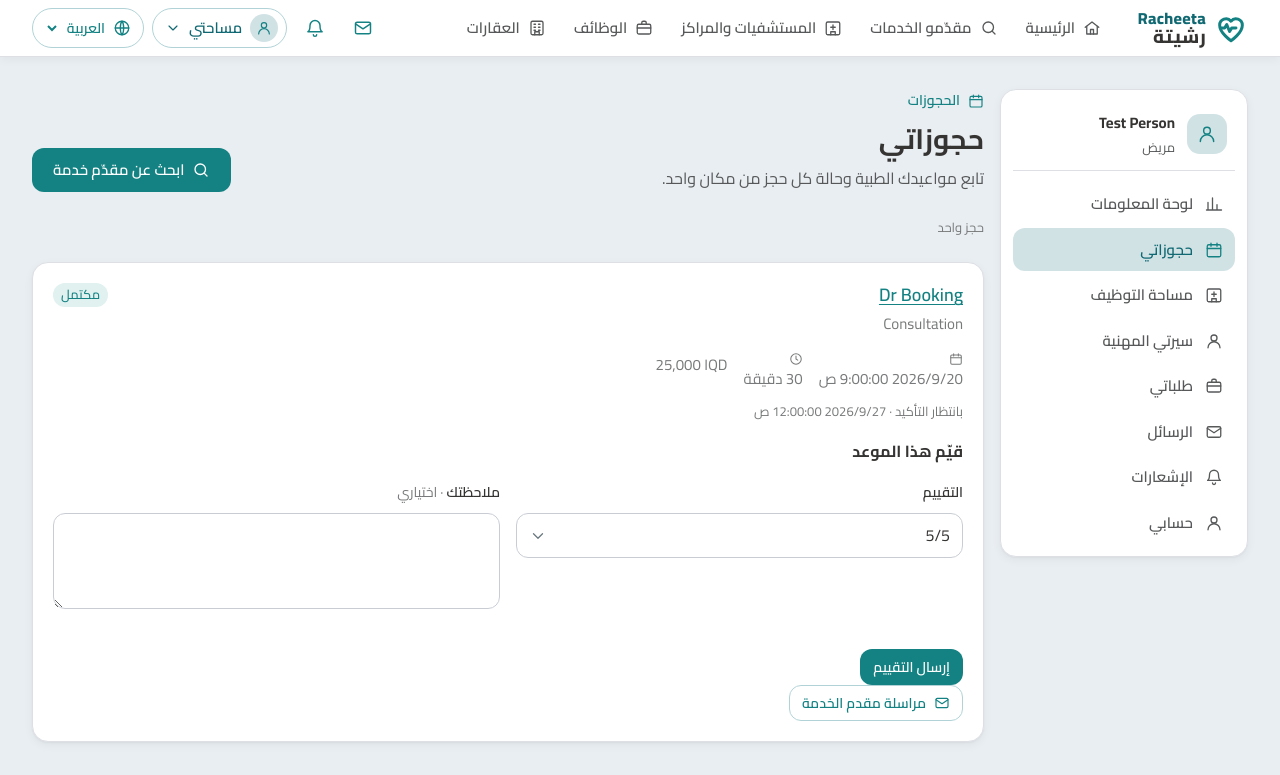
Reservations pages › lets a patient review a completed reservation once
The width and height of the screenshot is (1280, 775).
Expected: the text "قيّم هذا الموعد" is shown, [852, 436, 963, 466]
Step 1. Type "Excellent" into the text box labelled "ملاحظتك · اختياري" → (276,561), box [53, 513, 500, 609]
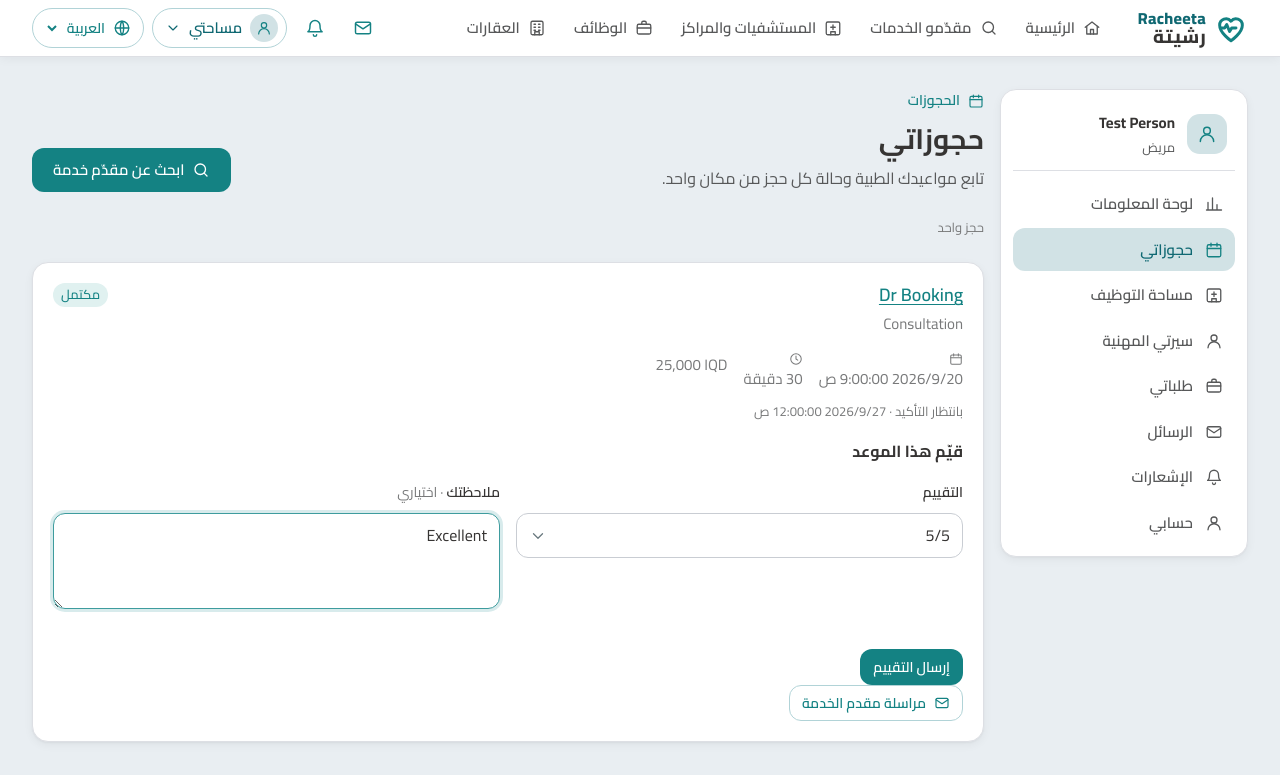
Step 2. Click the button "إرسال التقييم" → (912,667), box [860, 649, 963, 685]
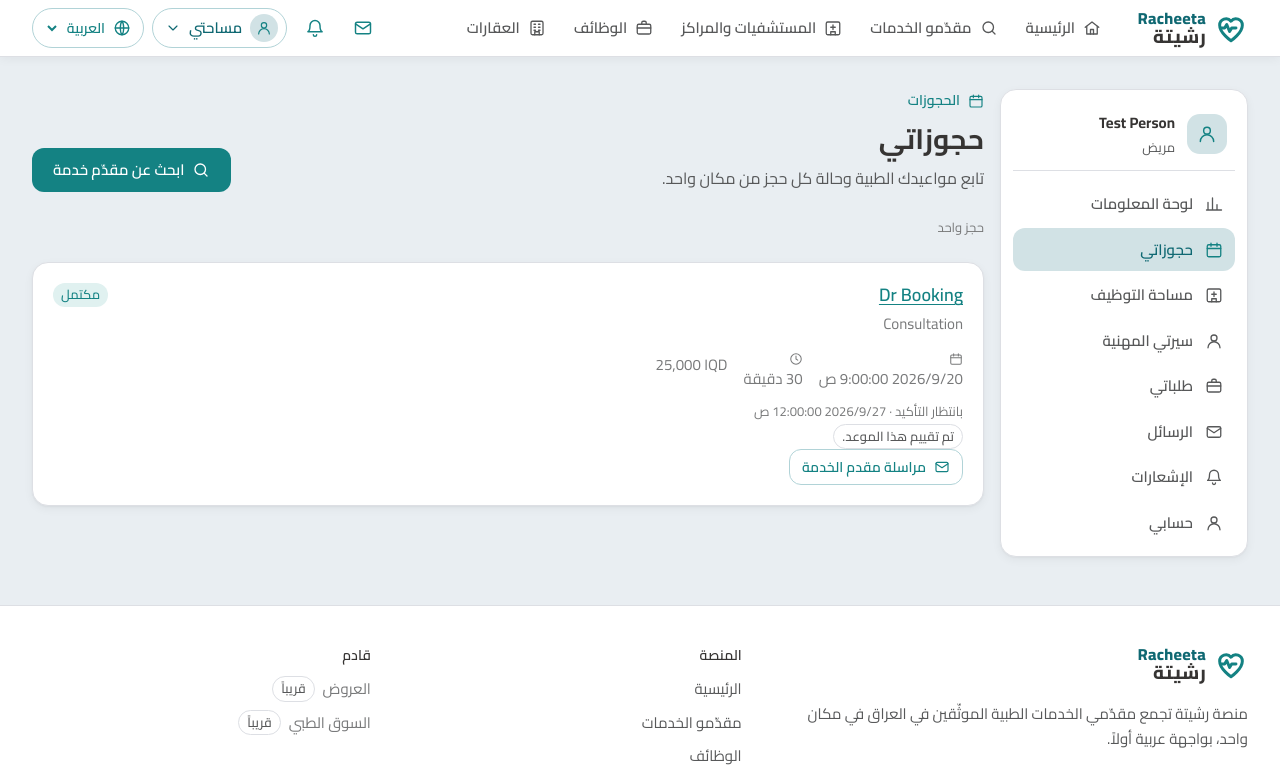
Expected: the text "تم تقييم هذا الموعد." is shown, [833, 424, 963, 450]
